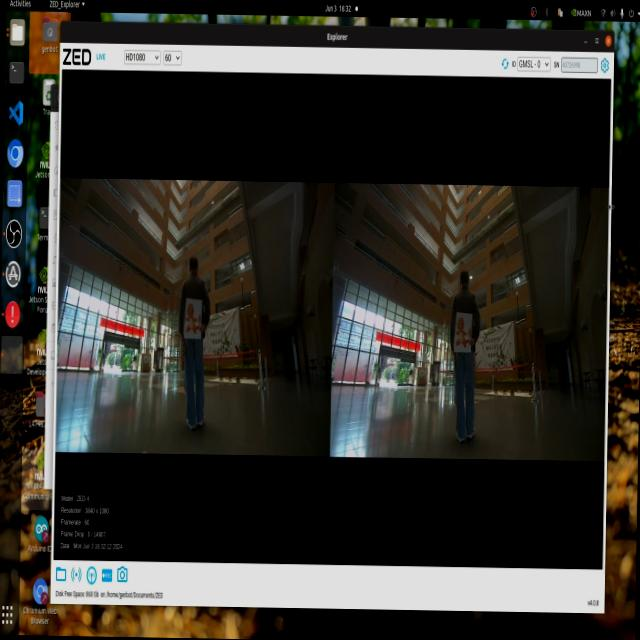red: (178, 294, 202, 340), (453, 310, 472, 354)
